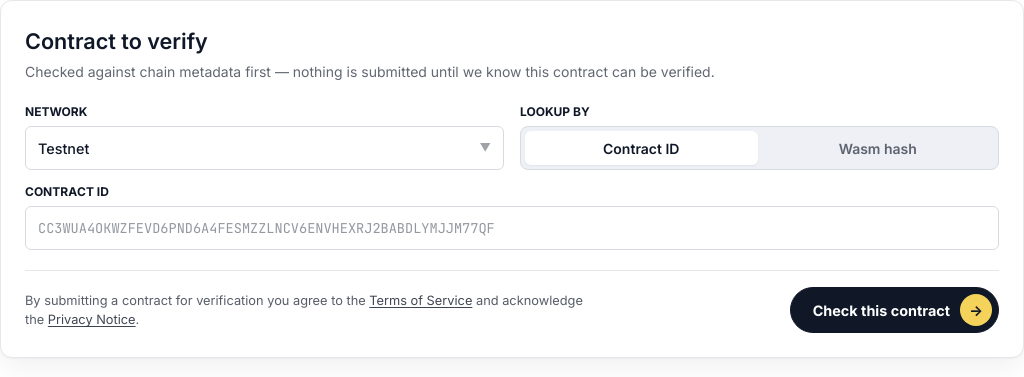
Test: the network picker offers both networks › mainnet is selectable, not a greyed placeholder
This screenshot has width=1024, height=377.
Click the dropdown named "network": (64, 148) 25,126 -> 504,170
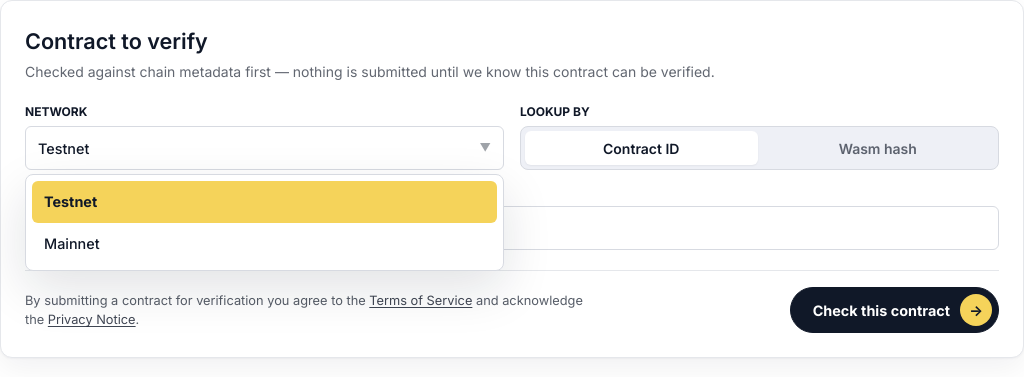
Expected: the option "Mainnet" is shown, 44,235 -> 100,252
